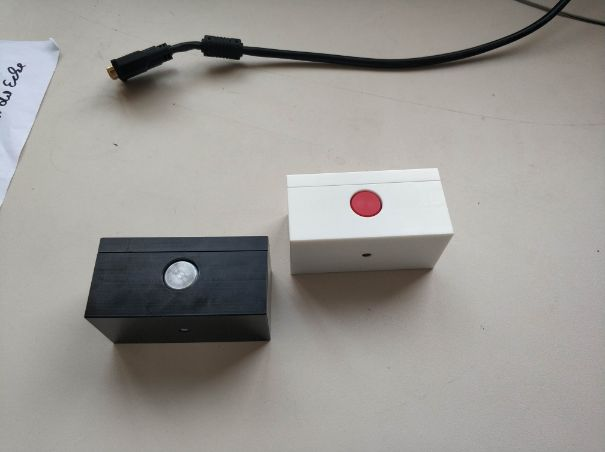black+black+silver: (83, 233, 275, 345)
white+white+red: (286, 165, 456, 275)
